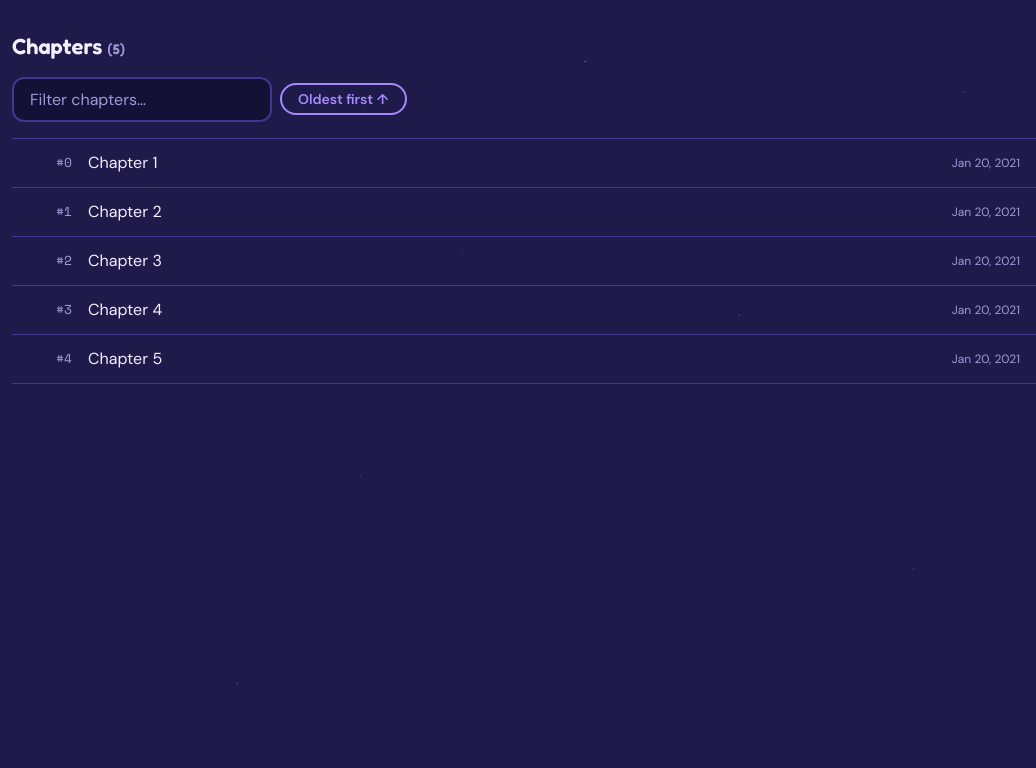
Test: ChapterList › shows an empty state when nothing matches the filter
The width and height of the screenshot is (1036, 768).
Type "no such chapter" into the search field named "Filter chapters by name".
click(142, 99); type("no such chapter")  # box [12, 77, 272, 122]
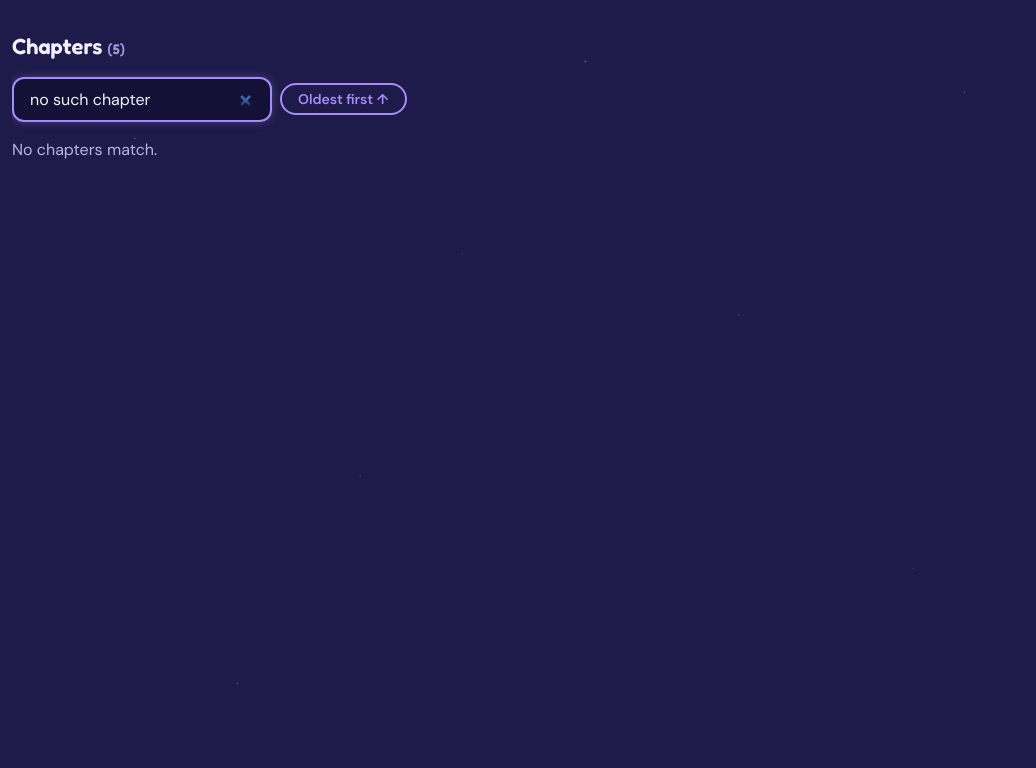
Result: the text "No chapters match." is shown at [12, 139, 157, 160]
Result: the list item "#0 Chapter 1 Jan 20, 2021" is gone
